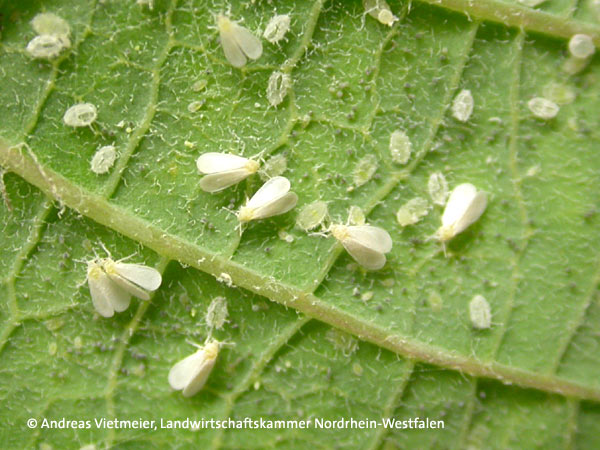whitefly: (308, 206, 392, 270), (167, 327, 234, 398), (425, 184, 487, 256), (223, 178, 299, 236), (78, 249, 131, 318), (209, 5, 262, 70), (197, 150, 272, 193), (97, 253, 161, 303)
